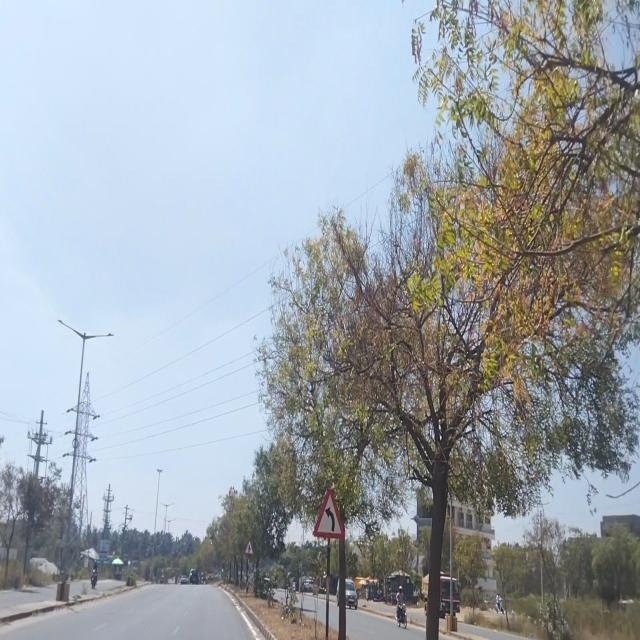bien_nguy_hiem: (313, 487, 345, 540), (244, 540, 254, 555)
